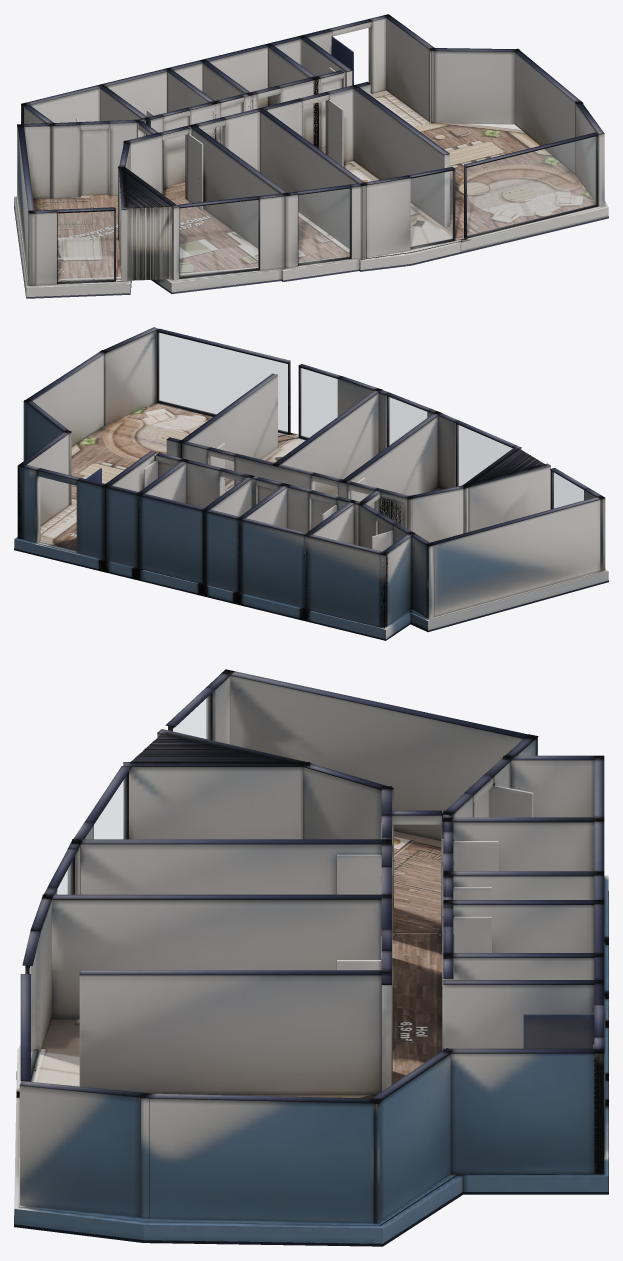
3 views of the same model, one above another, from view 1: azimuth 30°, elevation 25°; view 2: azimuth 150°, elevation 25°; view 3: azimuth 270°, elevation 25° (orthographic). The views are drawn at different scales.
Visible parts, largest first — view 1: plan, glass4_m, glass1_m, glass0_m, glass2_m, glass3_m; view 2: plan, glass4_m, glass3_m, glass1_m, glass2_m, glass0_m; view 3: plan, glass1_m, glass0_m.
Part boxes in pixels (x1,y1,x2,y2): plan: (14,14,608,298); glass4_m: (467,136,596,235); glass1_m: (180,200,258,276); glass0_m: (58,211,113,281); glass2_m: (298,189,349,263); glass3_m: (411,171,452,246); plan: (14,327,608,640); glass4_m: (159,333,287,431); glass3_m: (301,368,337,437); glass1_m: (457,425,512,485); glass2_m: (388,397,426,445); glass0_m: (553,472,583,508); plan: (14,669,608,1246); glass1_m: (94,776,126,838); glass0_m: (173,695,209,739).
Bounding box in the file's own units: 17.7 × 2.62 × 10.12.
Materials: 2 (1 with a texture image).
